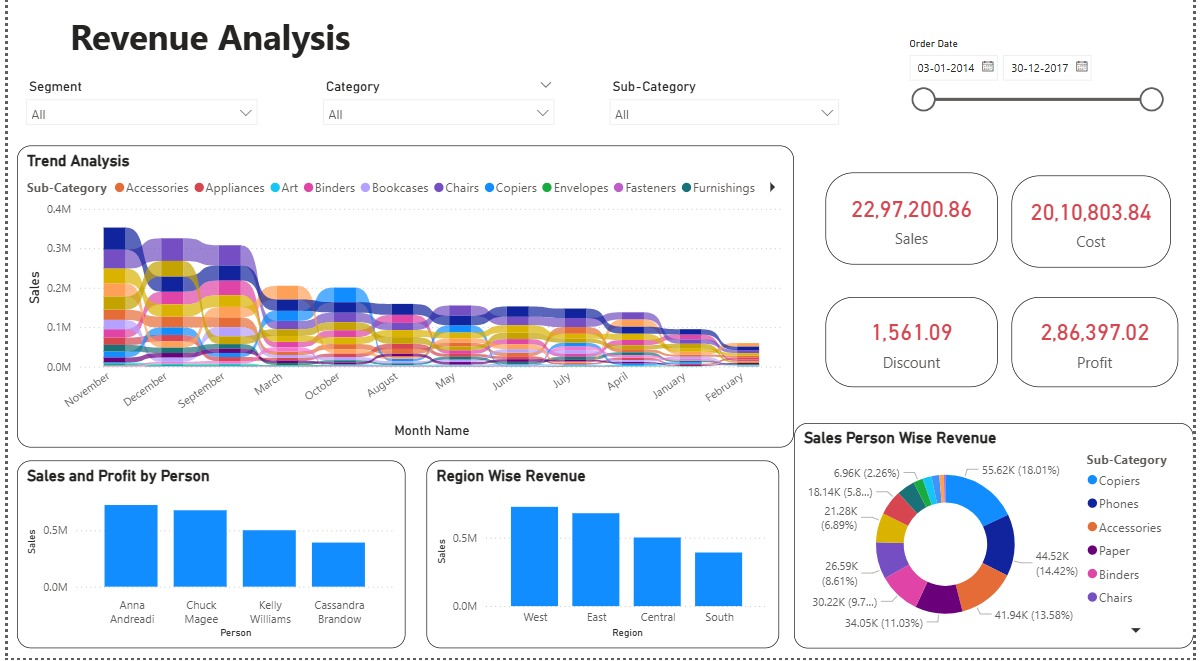

What the dashboard file says about the page in this screenshot:
{"tool":"powerbi","page":{"name":"Revenue Analysis","canvas":[1280,720],"ordinal":2},"visuals":[{"type":"textbox","box":[11,0,413.8,88.3],"z":0},{"type":"ribbonChart","title":"Trend Analysis","fields":{"Category":["Orders.Month Name"],"Y":["Measure_Table.Sales"],"Series":["Orders.Sub-Category"]},"box":[10.1,166.1,838.5,326.1],"z":1000},{"type":"donutChart","title":"Sales Person Wise Revenue","fields":{"Category":["Orders.Sub-Category"],"Y":["Measure_Table.Profit"]},"box":[848.6,465.8,431.4,243],"z":2000},{"type":"lineClusteredColumnComboChart","fields":{"Category":["People.Person"],"Y":["Measure_Table.Sales"]},"box":[10.1,506.3,419.2,202.5],"z":3000},{"type":"lineClusteredColumnComboChart","title":"Region Wise Revenue","fields":{"Category":["People.Region"],"Y":["Measure_Table.Sales"]},"box":[451.6,506.3,380.8,202.5],"z":4000},{"type":"card","fields":{"Values":["Measure_Table.Sales"]},"box":[883,196.5,186.3,99.2],"z":5000},{"type":"card","fields":{"Values":["Measure_Table.Discount"]},"box":[883,330.1,186.3,97.2],"z":6000},{"type":"card","fields":{"Values":["Measure_Table.Profit"]},"box":[1083.5,330.1,180.3,97.2],"z":7000},{"type":"card","fields":{"Values":["Measure_Table.Cost"]},"box":[1083.5,198.5,172.2,99.2],"z":8000},{"type":"slicer","fields":{"Values":["Orders.Segment"]},"box":[10.1,89.1,269.4,77],"z":9000},{"type":"slicer","fields":{"Values":["Orders.Category"]},"box":[330.1,89.1,269.4,77],"z":10000},{"type":"slicer","fields":{"Values":["Orders.Sub-Category"]},"box":[640,89.1,267.3,77],"z":11000},{"type":"slicer","fields":{"Values":["Orders.Order Date"]},"box":[960,44.6,295.7,121.5],"z":12000}]}

Visuals, with their boxes in screenshot pixels (x1, y1, x2, y2), scaled from the page's 1280x720 canvas onto the 1201x661 screenshot:
textbox: left=10, top=0, right=399, bottom=81
"Trend Analysis" ribbonChart: left=9, top=152, right=796, bottom=452
"Sales Person Wise Revenue" donutChart: left=796, top=428, right=1200, bottom=651
lineClusteredColumnComboChart - People.Person x Measure_Table.Sales: left=9, top=465, right=403, bottom=651
"Region Wise Revenue" lineClusteredColumnComboChart: left=424, top=465, right=781, bottom=651
card - Measure_Table.Sales: left=829, top=180, right=1003, bottom=271
card - Measure_Table.Discount: left=829, top=303, right=1003, bottom=392
card - Measure_Table.Profit: left=1017, top=303, right=1186, bottom=392
card - Measure_Table.Cost: left=1017, top=182, right=1178, bottom=273
slicer - Orders.Segment: left=9, top=82, right=262, bottom=152
slicer - Orders.Category: left=310, top=82, right=562, bottom=152
slicer - Orders.Sub-Category: left=600, top=82, right=851, bottom=152
slicer - Orders.Order Date: left=901, top=41, right=1178, bottom=152
